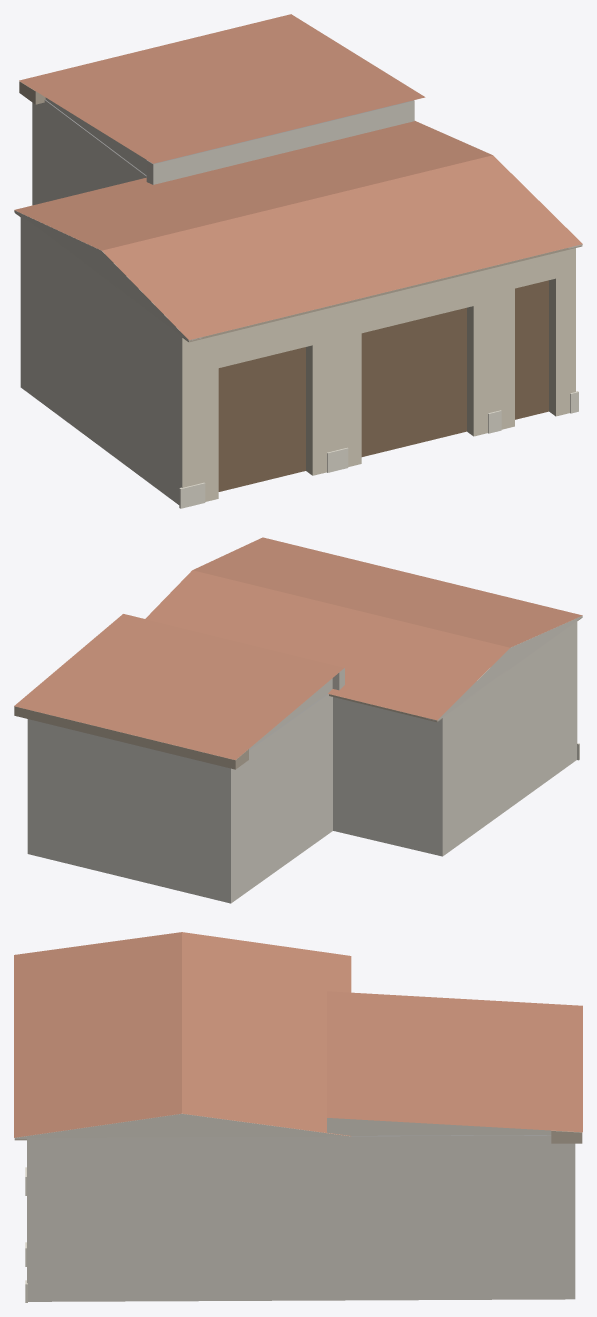
3 renders of one model, top to bottom at view 1: azimuth 30°, elevation 25°; view 2: azimuth 150°, elevation 25°; view 3: azimuth 270°, elevation 25°, orthographic. The views are drawn at different scales.
Parts seen in each view (by area): view 1: CP_413_b_Masonry, CP_413_b_Roof, CP_413_b_WingRoof_Rear, CP_413_b_AtticClosure, CP_413_b_Gable_L_gable, CP_413_b_Roof_EaveClosure_0; view 2: CP_413_b_Masonry, CP_413_b_Roof, CP_413_b_WingRoof_Rear, CP_413_b_WingRoof_Rear_EaveClosure_0, CP_413_b_Gable_L_gable, CP_413_b_AtticClosure; view 3: CP_413_b_Masonry, CP_413_b_Roof, CP_413_b_WingRoof_Rear, CP_413_b_Gable_R_gable, CP_413_b_AtticClosure.
Boxes of the visible parts, left/top/right/bottom form: CP_413_b_Masonry: left=20, top=99, right=575, bottom=504; CP_413_b_Roof: left=14, top=121, right=582, bottom=339; CP_413_b_WingRoof_Rear: left=19, top=14, right=425, bottom=163; CP_413_b_AtticClosure: left=45, top=97, right=414, bottom=184; CP_413_b_Gable_L_gable: left=14, top=210, right=202, bottom=341; CP_413_b_Roof_EaveClosure_0: left=182, top=245, right=582, bottom=342; CP_413_b_Masonry: left=27, top=621, right=577, bottom=903; CP_413_b_Roof: left=145, top=537, right=582, bottom=720; CP_413_b_WingRoof_Rear: left=14, top=614, right=344, bottom=759; CP_413_b_WingRoof_Rear_EaveClosure_0: left=14, top=706, right=248, bottom=769; CP_413_b_Gable_L_gable: left=426, top=616, right=582, bottom=721; CP_413_b_AtticClosure: left=249, top=668, right=344, bottom=749; CP_413_b_Masonry: left=27, top=1135, right=575, bottom=1301; CP_413_b_Roof: left=14, top=932, right=351, bottom=1137; CP_413_b_WingRoof_Rear: left=327, top=991, right=582, bottom=1132; CP_413_b_Gable_R_gable: left=14, top=1113, right=349, bottom=1139; CP_413_b_AtticClosure: left=327, top=1118, right=551, bottom=1135.
Size of the model in its own units: 8.57 by 4 by 11.
